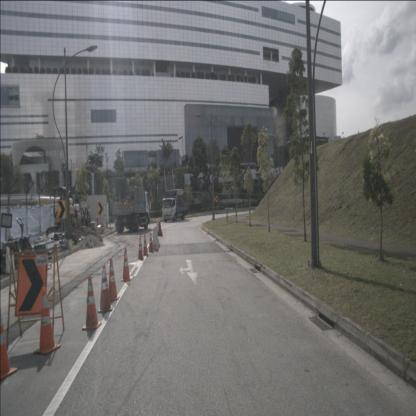barrier: (152, 226, 160, 251), (157, 219, 162, 236)
cone: (34, 286, 61, 355), (0, 311, 18, 381), (82, 275, 102, 331), (97, 264, 113, 312), (109, 256, 120, 301), (121, 247, 131, 281), (136, 237, 145, 259), (148, 232, 154, 253), (144, 234, 148, 255)
